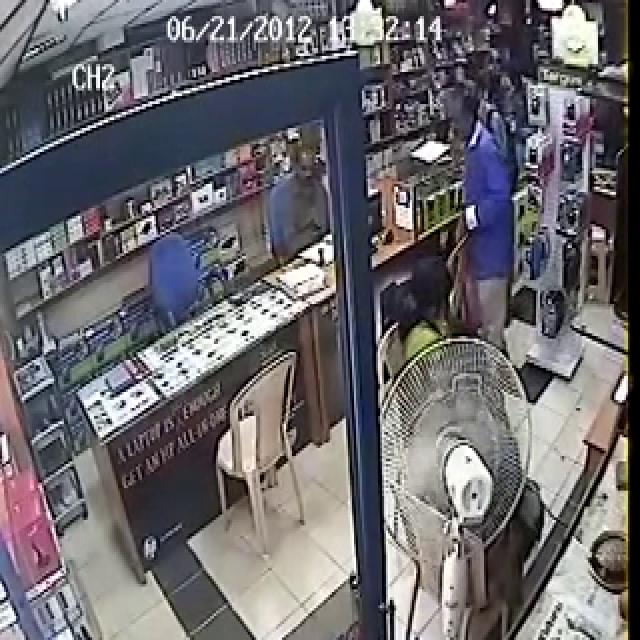shoplifting: (374, 24, 624, 635)
